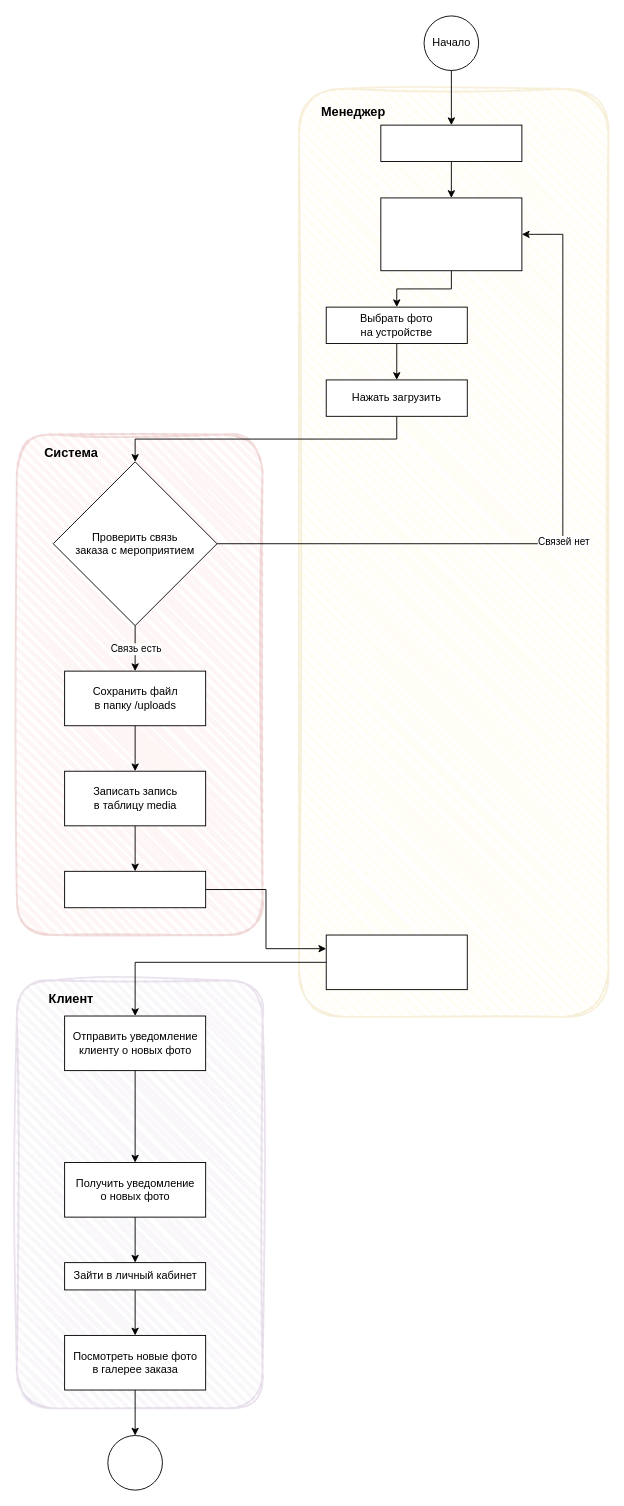
The diagram is 624 pixels wide and 1506 high, and some of its shapes have lost their labels. Here are the shapes that lost their labels. From the top down, the centre of each, then its label:
At point 451,143: "Открыть мероприятие в приложении".
At point 451,234: "Выбрать заказ из списка привязанных к мероприятию".
At point 135,889: "Сгенерировать превью".
At point 396,962: "Получить подтверждение об успешной загрузке".
At point 134,1462: "Конец".
